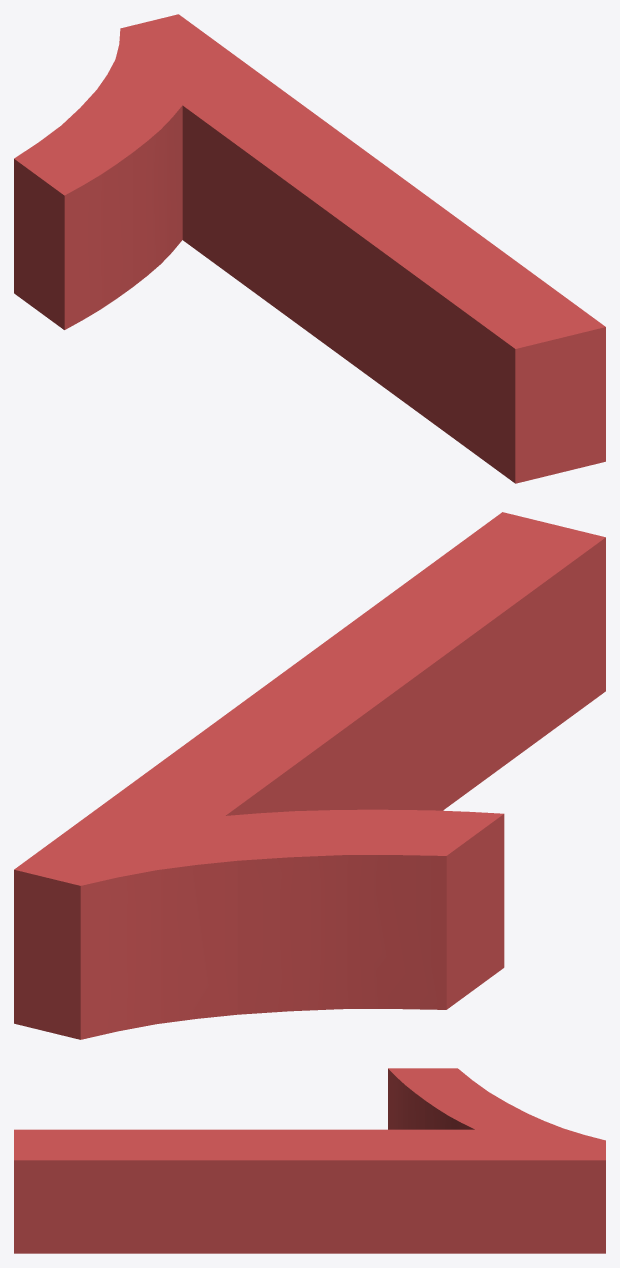
3 views of the same model, one above another, from view 1: azimuth 30°, elevation 25°; view 2: azimuth 150°, elevation 25°; view 3: azimuth 270°, elevation 25° (orthographic). The views are drawn at different scales.
Parts seen in each view (by area): view 1: Body10; view 2: Body10; view 3: Body10.
Part boxes in pixels (x1,y1,x2,y2): Body10: (14, 14, 605, 483); Body10: (14, 512, 605, 1039); Body10: (14, 1068, 605, 1253).
Size of the model in its own units: 10.55 by 5 by 28.75.
